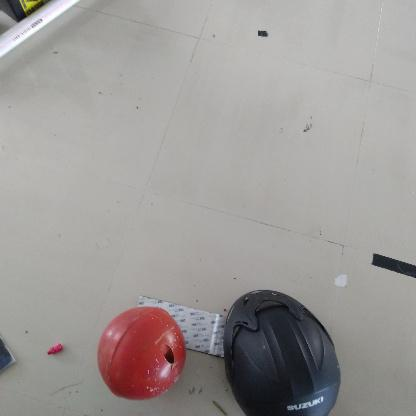red_buoy: (96, 305, 186, 402)
